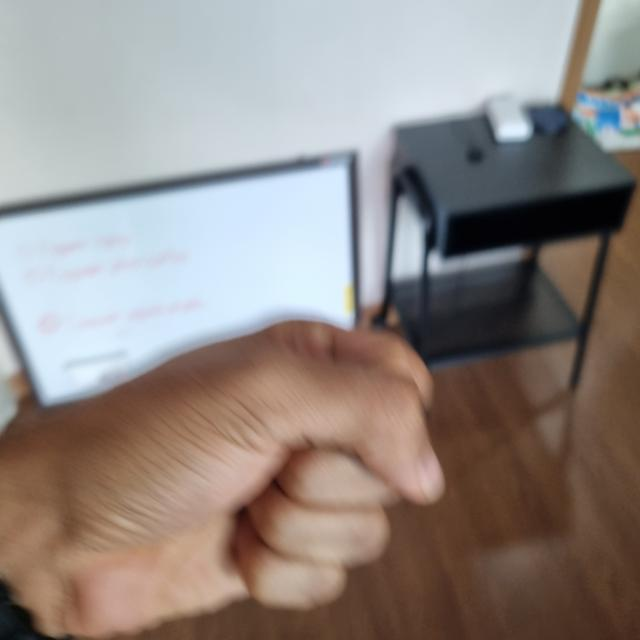Rock: (1, 322, 437, 638)
